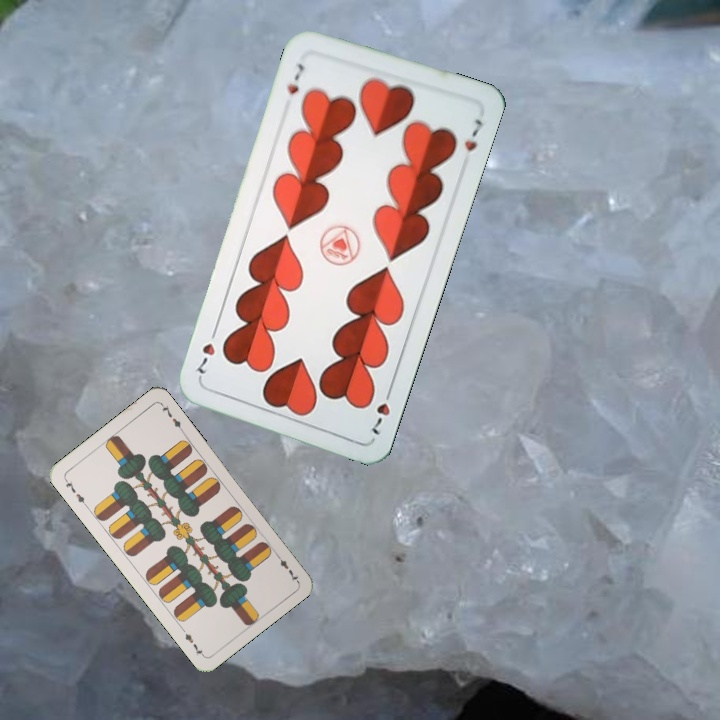E7: (60, 475, 90, 510), (271, 549, 301, 584)
H7: (366, 383, 395, 438), (283, 60, 308, 97)
